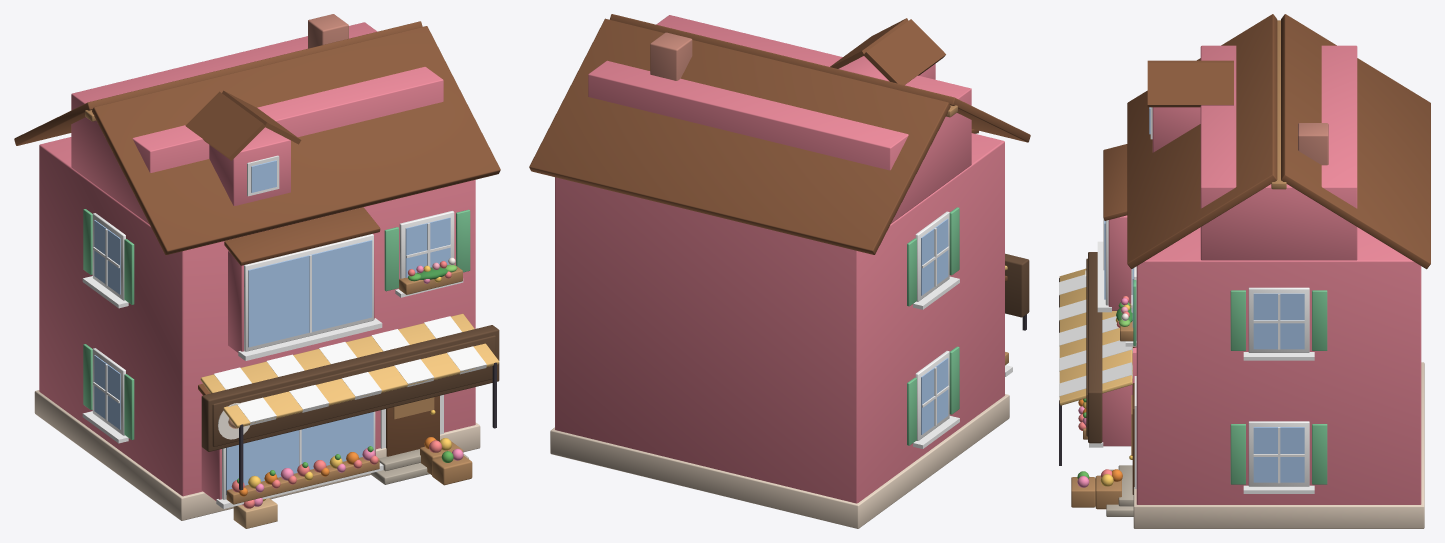
File: shop_mart.glb
The picture shows the model from 3 angles, left to right: view 1: azimuth 30°, elevation 25°; view 2: azimuth 150°, elevation 25°; view 3: azimuth 270°, elevation 25°; orthographic projection. The views are drawn at different scales.
Visible parts, largest first — view 1: shop_mart; view 2: shop_mart; view 3: shop_mart.
Part boxes in pixels (box(x1,y1,x2,y2)): shop_mart: box(14, 14, 500, 528); shop_mart: box(529, 14, 1030, 528); shop_mart: box(1059, 14, 1430, 528).
Size of the model in its own units: 7.6 by 8.05 by 7.32.
